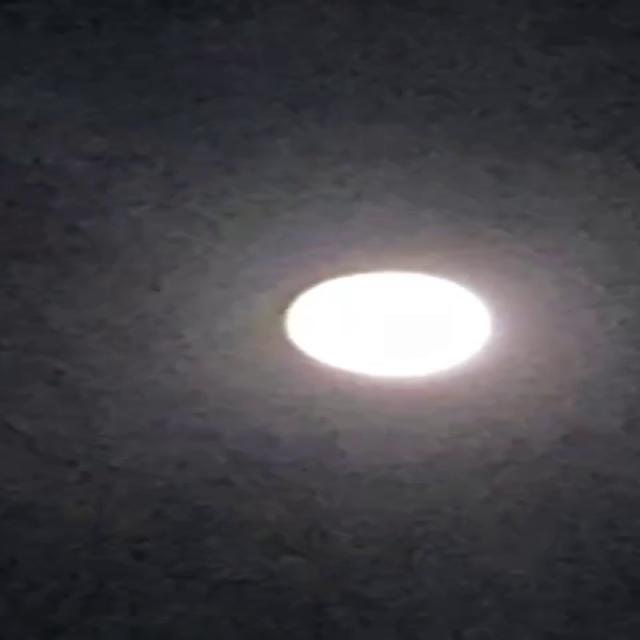moon: (279, 265, 506, 386)
